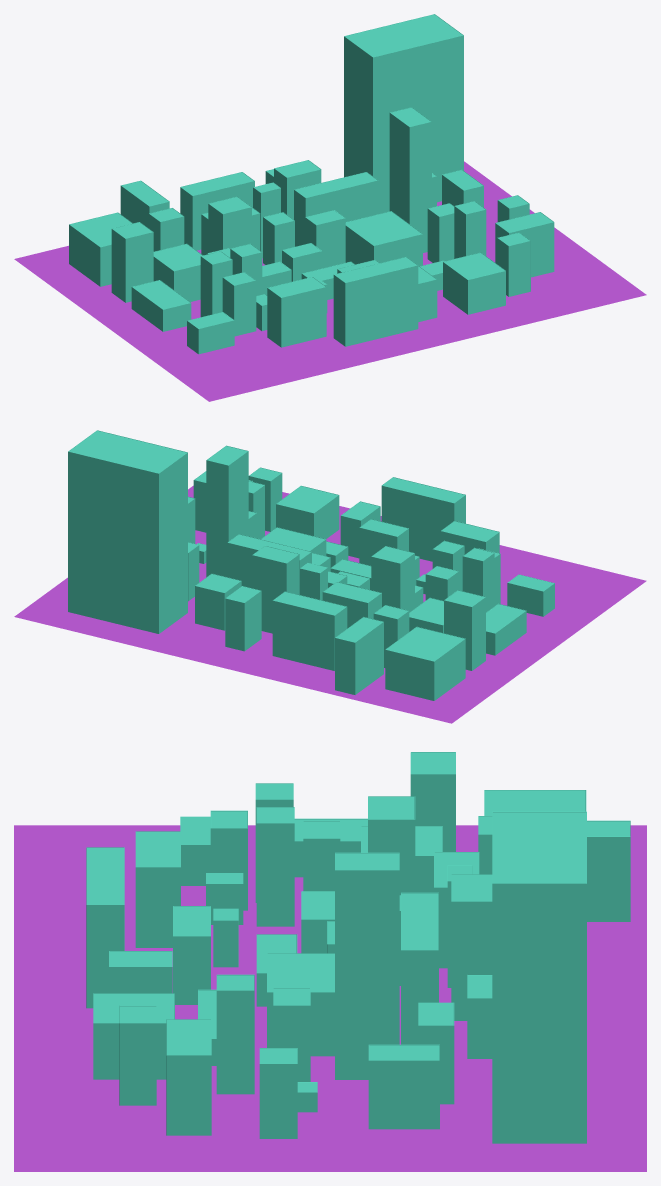
The model's file is City vol2.obj.
3 renders of one model, top to bottom at view 1: azimuth 30°, elevation 25°; view 2: azimuth 150°, elevation 25°; view 3: azimuth 270°, elevation 25°, orthographic. The views are drawn at different scales.
Visible parts, largest first — view 1: Plane01, Box33, Box47, Box30, Box40, Box27, Box18, Box46, Box32, Box38, Box31, Box28 (+23 smaller); view 2: Plane01, Box33, Box38, Box31, Box30, Box47, Box17, Box46, Box24, Box32, Box15, Box34 (+20 smaller); view 3: Plane01, Box33, Box30, Box36, Box44, Box47, Box40, Box27, Box24, Box35, Box01, Box18 (+27 smaller).
Part boxes in pixels (<box>): Plane01: <box>14,161,646,401</box>; Box33: <box>344,14,463,213</box>; Box47: <box>333,257,418,346</box>; Box30: <box>389,107,431,252</box>; Box40: <box>267,277,326,347</box>; Box27: <box>294,172,378,246</box>; Box18: <box>345,211,422,266</box>; Box46: <box>443,252,505,314</box>; Box32: <box>111,222,153,302</box>; Box38: <box>69,212,132,286</box>; Box31: <box>180,172,254,250</box>; Box28: <box>131,280,191,331</box>; Plane01: <box>14,485,646,723</box>; Box33: <box>68,430,187,633</box>; Box38: <box>385,626,465,700</box>; Box31: <box>272,591,347,670</box>; Box30: <box>206,445,248,577</box>; Box47: <box>381,477,465,561</box>; Box17: <box>335,617,383,694</box>; Box46: <box>276,485,339,538</box>; Box24: <box>252,545,299,633</box>; Box32: <box>444,590,485,670</box>; Box15: <box>371,546,414,612</box>; Box34: <box>225,586,261,651</box>; Plane01: <box>14,825,646,1171</box>; Box33: <box>492,811,586,1143</box>; Box30: <box>335,852,399,1079</box>; Box36: <box>368,1044,439,1129</box>; Box44: <box>166,1019,211,1135</box>; Box47: <box>86,847,124,1008</box>; Box40: <box>135,831,180,947</box>; Box27: <box>401,892,438,1044</box>; Box24: <box>451,874,492,1020</box>; Box35: <box>216,974,254,1094</box>; Box01: <box>256,807,294,926</box>; Box18: <box>267,953,334,1056</box>.
Size of the model in its own units: 10185 by 3566 by 7863.
